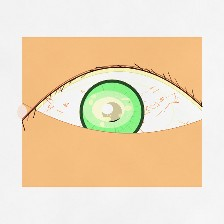corneal_ulcer: (82, 88, 135, 131)
